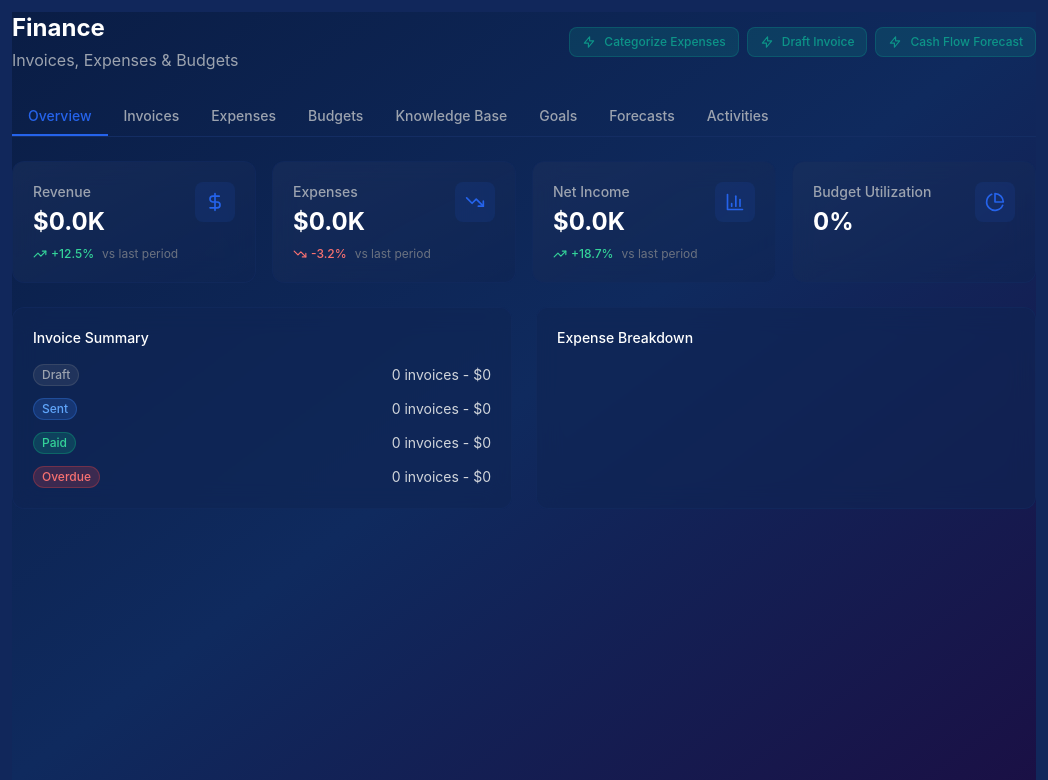
Test: Finance › switches to Invoices tab
This screenshot has width=1048, height=780.
Click the button "Invoices" at (151, 116), box x1=108 y1=96 x2=195 y2=136
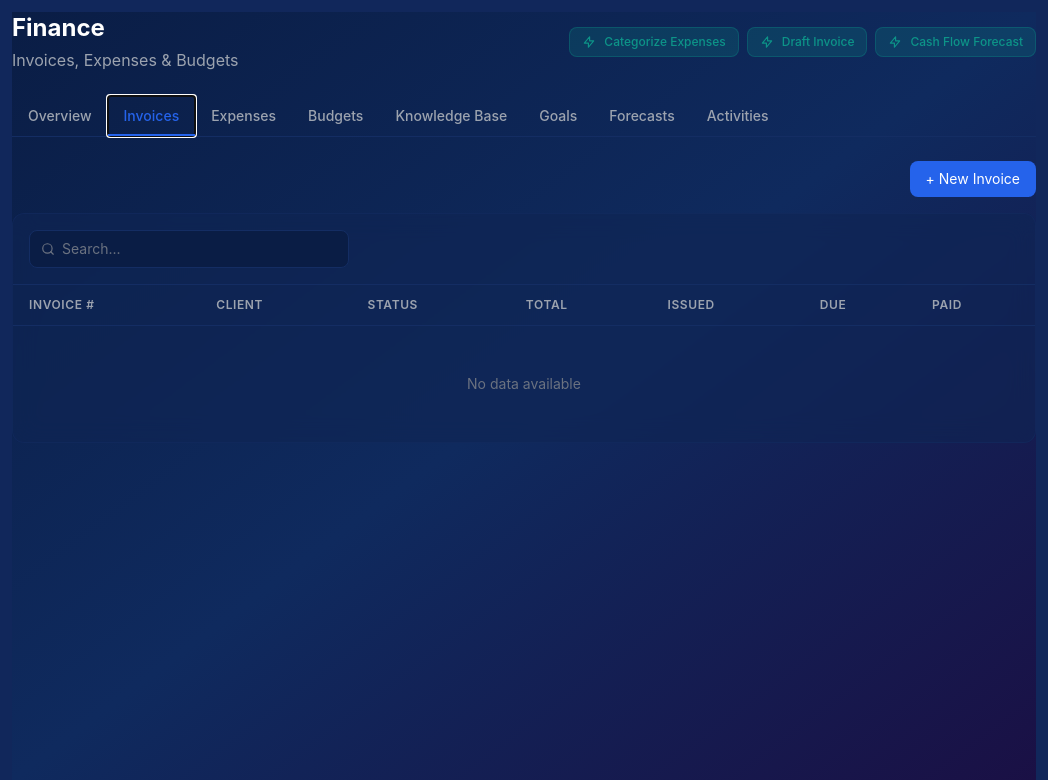
Expected: the button "+ New Invoice" is shown, x1=910 y1=161 x2=1036 y2=197
